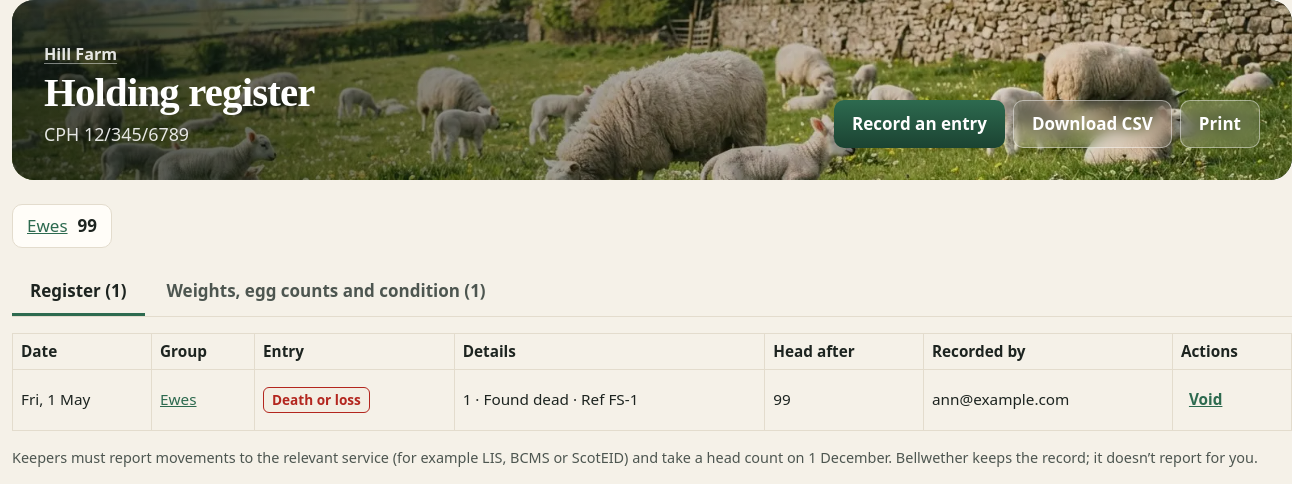
RegisterPage (v3) › shows the holding details, head counts and the register with running totals
Expected: the text "CPH 12/345/6789" is shown, [44,122,189,146]
Expected: the cell "99" is shown, [765,369,923,430]
Click the tab "Weights, egg counts and condition (1)" at point(326, 292), box [148,268,504,316]
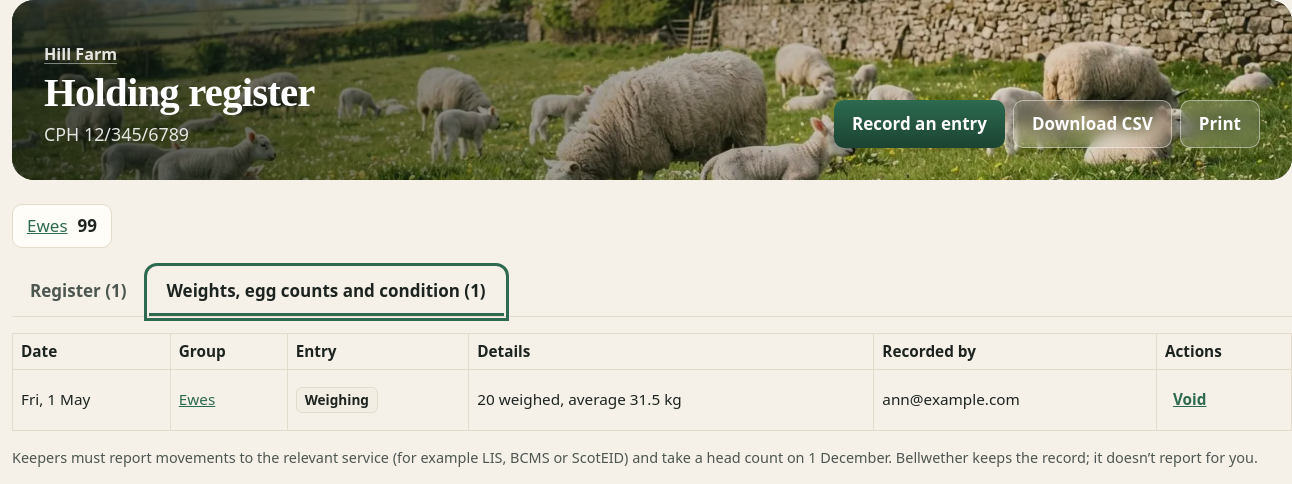
Now the text "20 weighed, average 31.5 kg" is shown, box [477,390,682,410]
